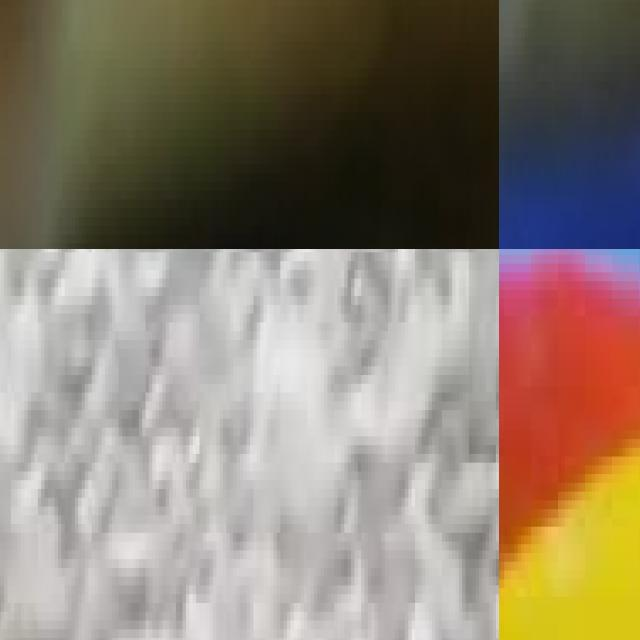fish: (1, 0, 499, 249), (499, 81, 640, 249)
